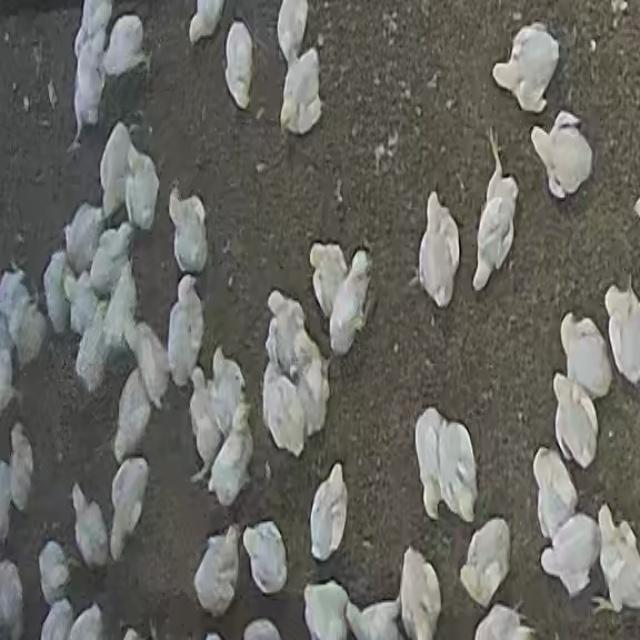chicken: (470, 126, 518, 296), (415, 409, 477, 526), (492, 19, 562, 114), (527, 109, 596, 205), (416, 190, 464, 312), (208, 400, 258, 506), (594, 503, 640, 615), (327, 250, 372, 357), (559, 312, 612, 402), (460, 518, 510, 608), (552, 376, 599, 471), (280, 47, 328, 139), (193, 524, 240, 616), (166, 276, 204, 388), (397, 546, 440, 640), (109, 459, 149, 560), (534, 451, 578, 542), (309, 464, 349, 564), (604, 280, 640, 389), (114, 368, 154, 464), (100, 13, 158, 78), (124, 135, 160, 234), (168, 188, 208, 277), (242, 520, 287, 597), (71, 484, 110, 570), (309, 242, 349, 322), (224, 20, 254, 110), (8, 426, 35, 516), (276, 1, 309, 64)
